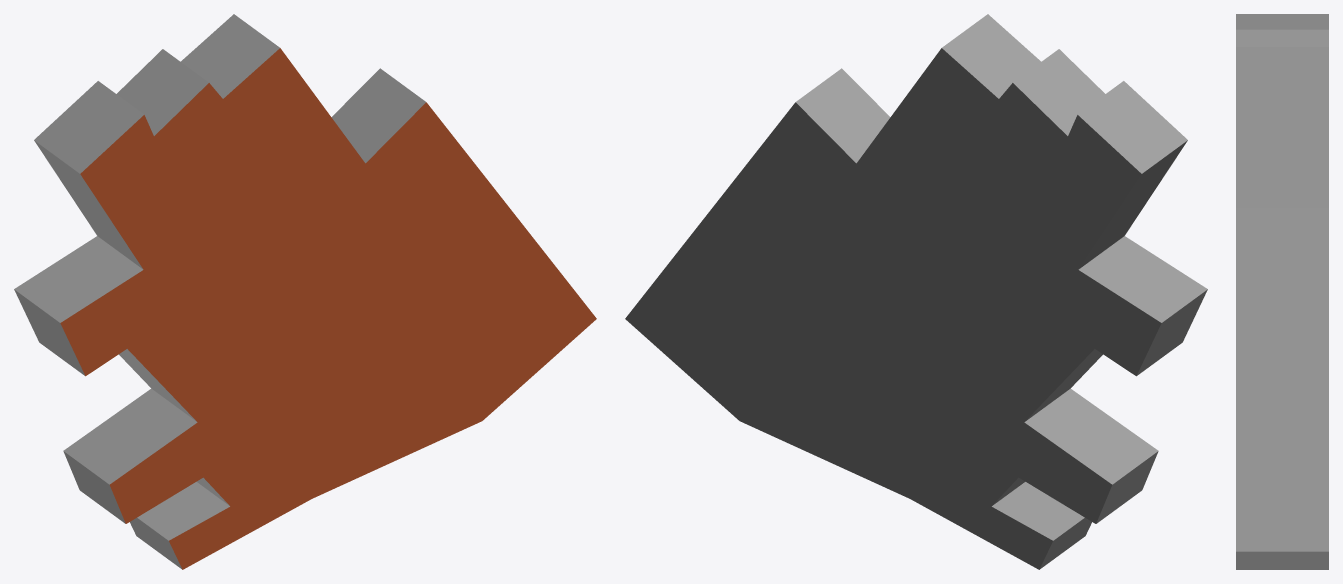
Rendered from construction_3261_assumed_A_Casa_h6m.obj.
3 renders of one model, left to right at view 1: azimuth 30°, elevation 25°; view 2: azimuth 150°, elevation 25°; view 3: azimuth 270°, elevation 25°, orthographic.
Parts seen in each view (by area): view 1: construction_3261_assumed_A_Casa; view 2: construction_3261_assumed_A_Casa; view 3: construction_3261_assumed_A_Casa.
Part boxes in pixels (x1,y1,x2,y2): construction_3261_assumed_A_Casa: (14,14,596,569); construction_3261_assumed_A_Casa: (625,14,1207,569); construction_3261_assumed_A_Casa: (1236,14,1328,569).
Bounding box in the file's own units: 40.14 × 35.62 × 6.
